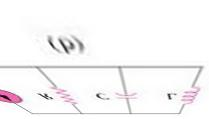inductor: (178, 80, 203, 110)
